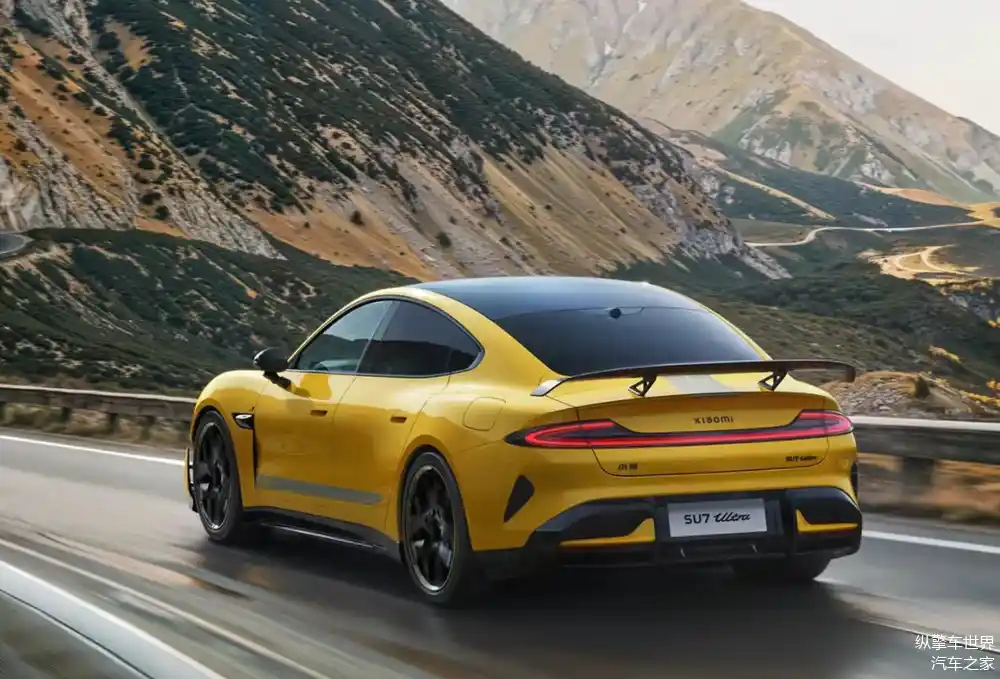su7: (180, 249, 868, 614)
